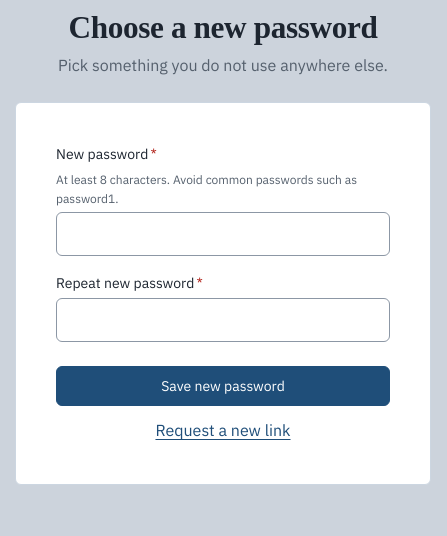
ResetPasswordPage › reports an expired token as a form-level alert
The image size is (447, 536).
Type "Sierra-Foothills-2027" into the password field labelled "New password*" at (223, 234), box [56,212,390,256]
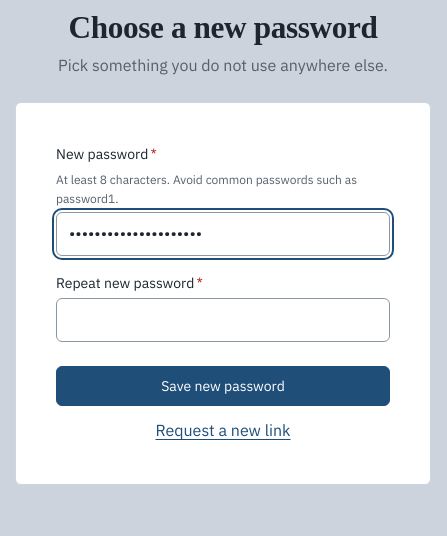
Type "Sierra-Foothills-2027" into the password field labelled "Repeat new password*" at (223, 320), box [56,298,390,342]
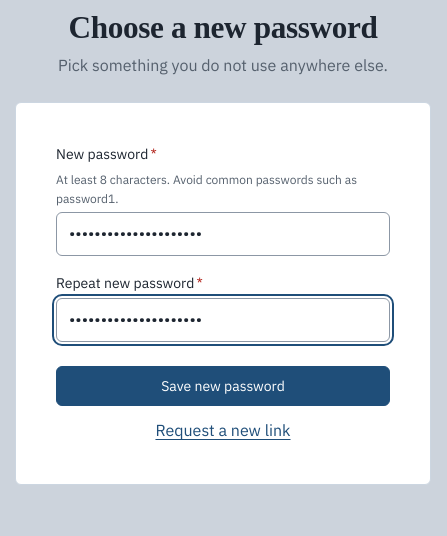
Click the button "Save new password" at (223, 386), box [56,366,390,406]
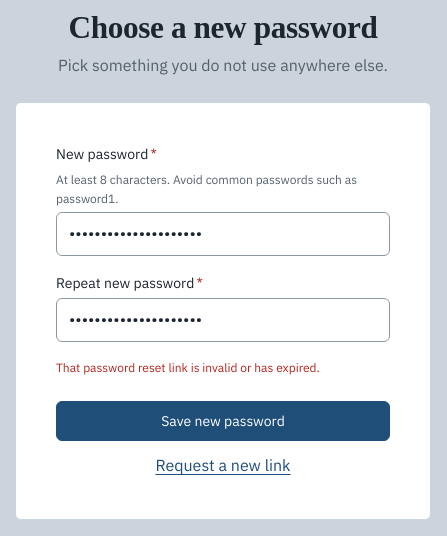
Now the message shows "invalid or has expired", box [56,360,320,375]
